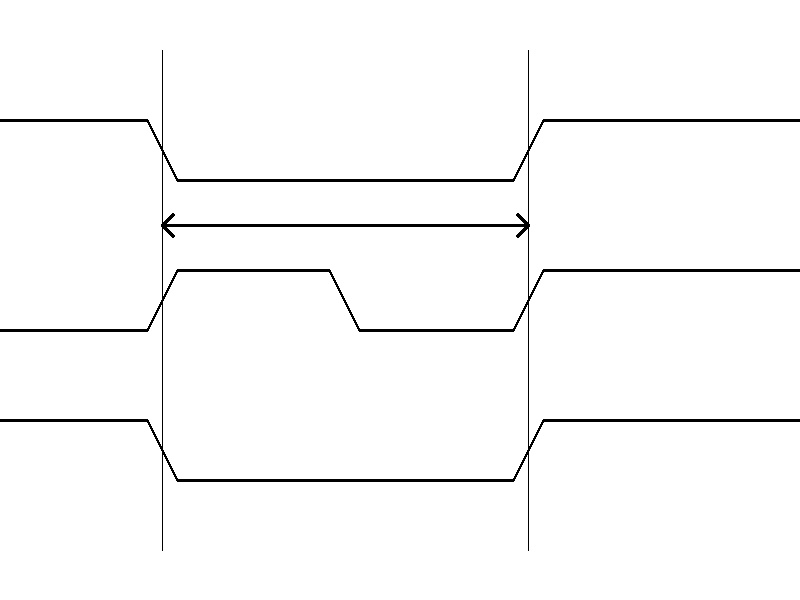double_arrow: (162, 210, 528, 240)
